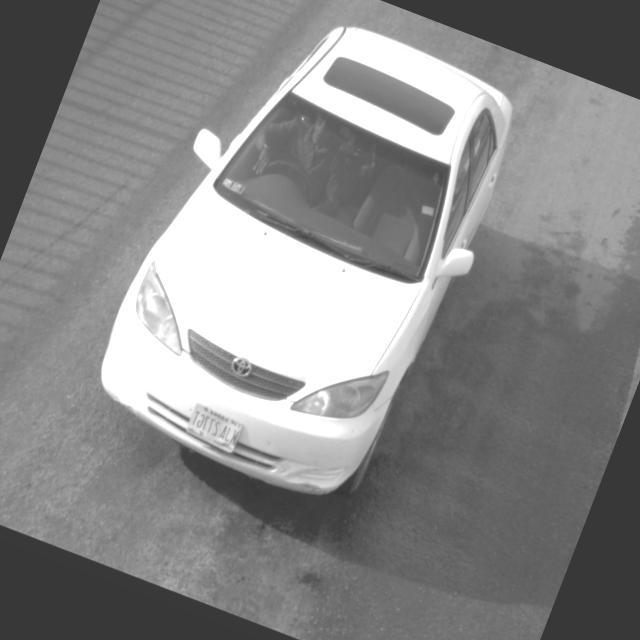windshield: (203, 82, 461, 301)
